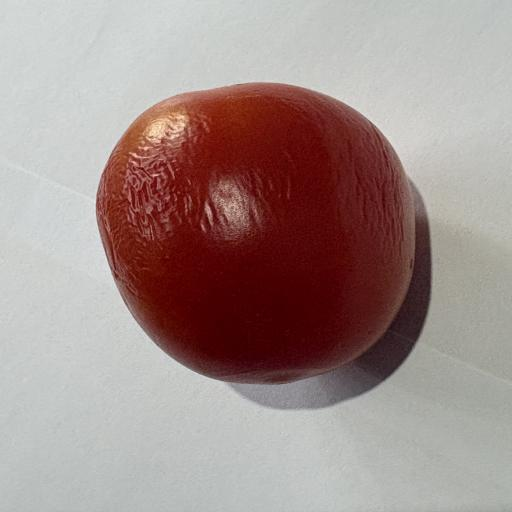spoiled: (96, 83, 414, 383)
